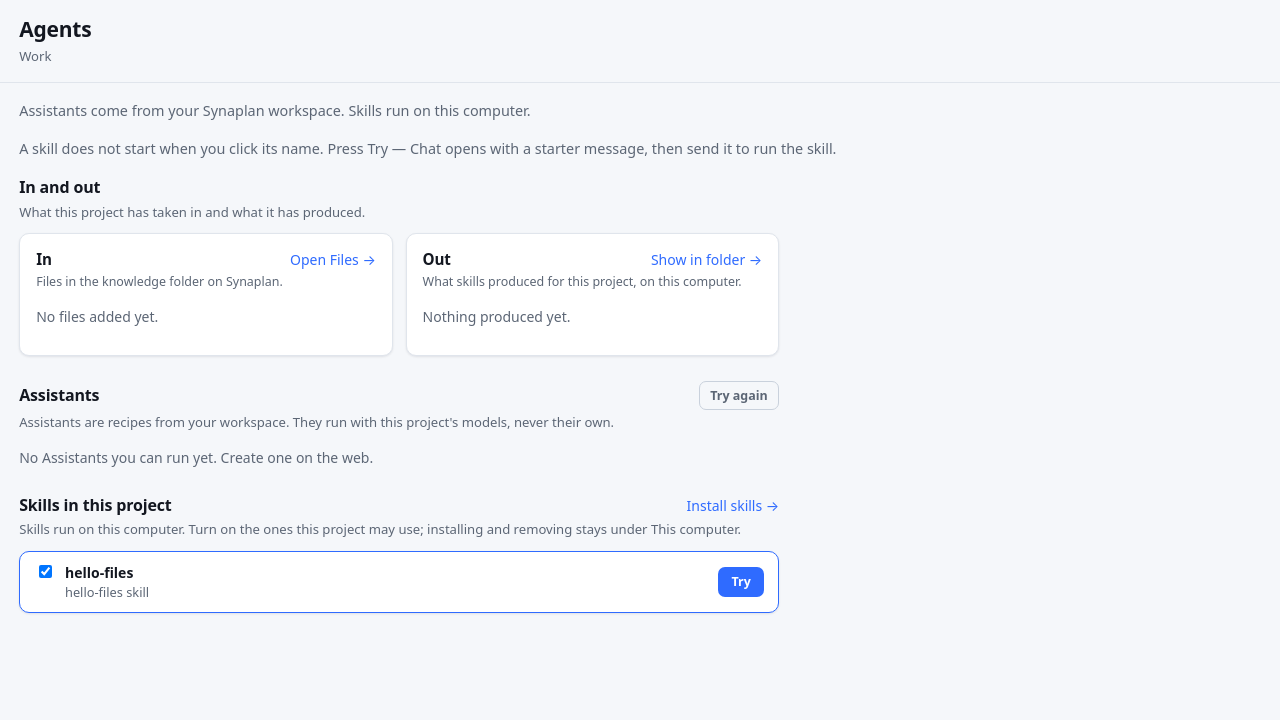
Scenario: AgentsView — skills overlay and In/Out › opens the helper when the skill row is clicked
Click the list item with test id "skill-hello-files".
click(399, 582)  # box [19,551,779,613]
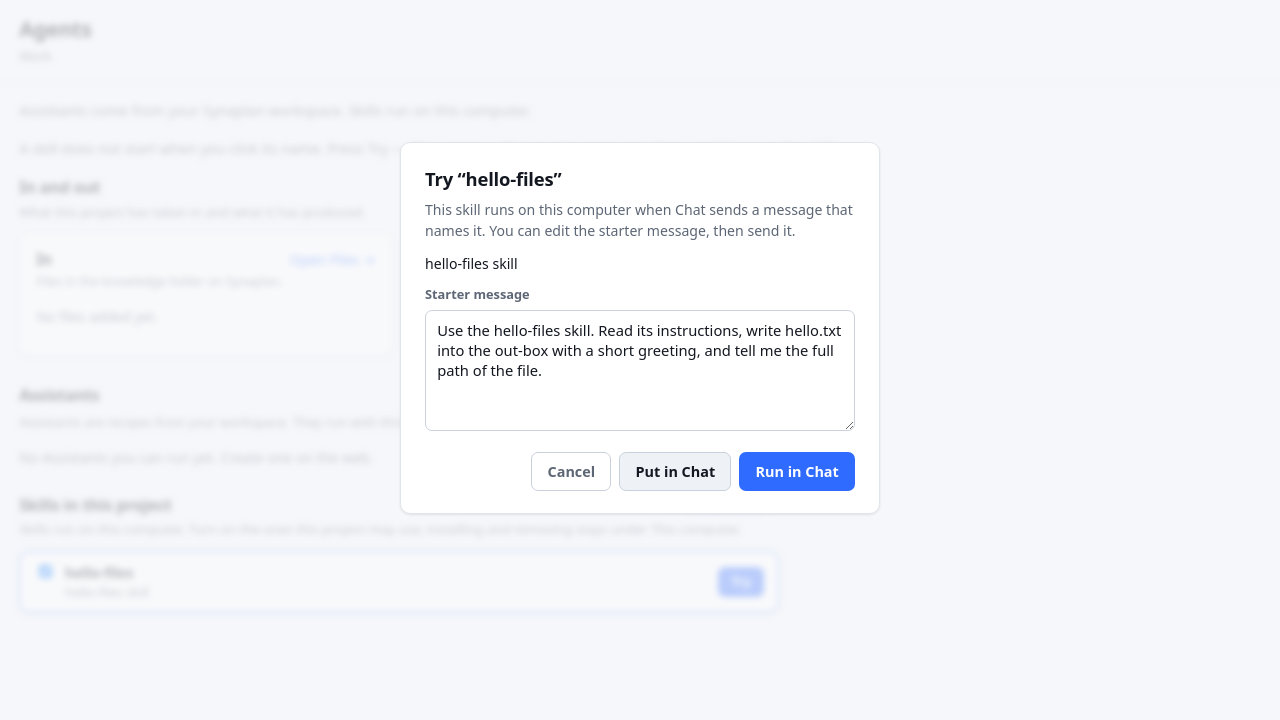
expect the dialog with test id "skill-try-dialog" is shown: met
expect the dialog with test id "skill-try-dialog" shows "Try “hello-files”": met, box [425,166,561,191]
